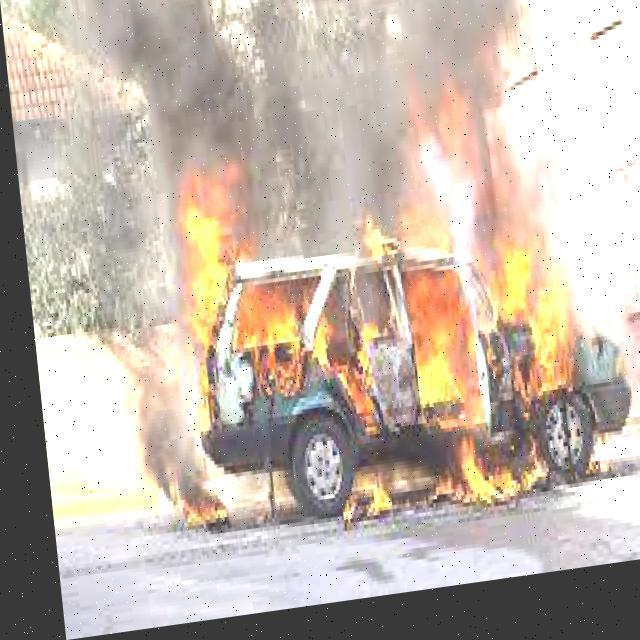Fire: (114, 159, 323, 446), (388, 138, 578, 431), (400, 426, 574, 554), (306, 449, 398, 553), (142, 458, 240, 552)
